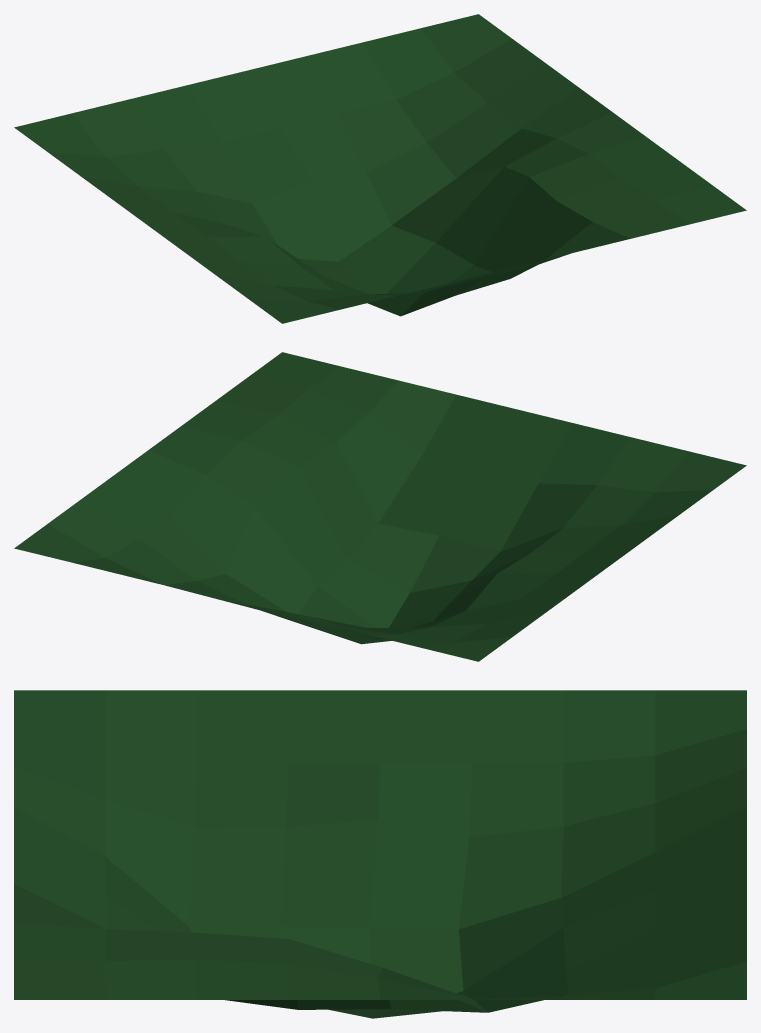
The model's file is Terrain_14_Dark_Green.fbx.
3 views of the same model, one above another, from view 1: azimuth 30°, elevation 25°; view 2: azimuth 150°, elevation 25°; view 3: azimuth 270°, elevation 25° (orthographic). The views are drawn at different scales.
Visible parts, largest first — view 1: Terrain_14_Dark_Green; view 2: Terrain_14_Dark_Green; view 3: Terrain_14_Dark_Green.
Boxes of the visible parts, box(x1,y1,x2,y2) form: Terrain_14_Dark_Green: box(14, 14, 746, 323); Terrain_14_Dark_Green: box(14, 352, 746, 661); Terrain_14_Dark_Green: box(14, 690, 746, 1018).
Size of the model in its own units: 6000 by 1582 by 6000.
